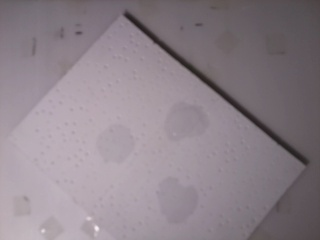Water_detected: (98, 126, 139, 166), (175, 100, 215, 137), (160, 176, 195, 216)
